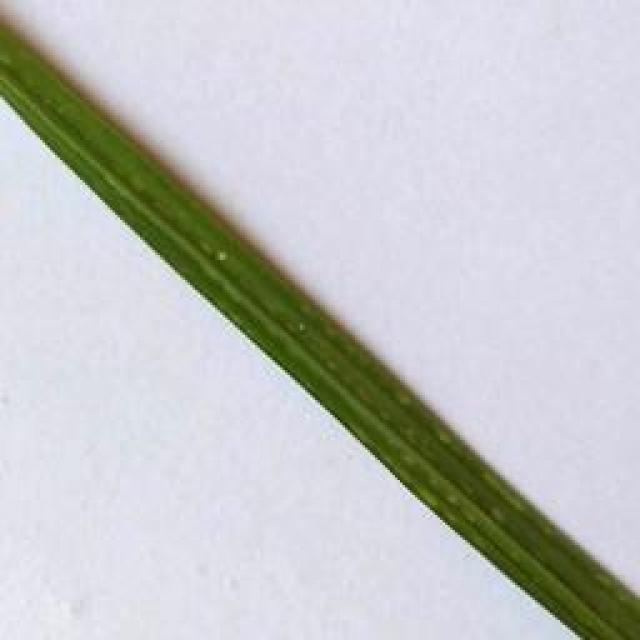Brown_Spot: (207, 237, 240, 278), (291, 311, 313, 344)
